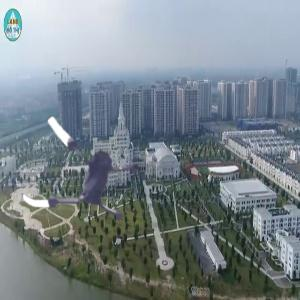drone: (16, 102, 157, 243)
